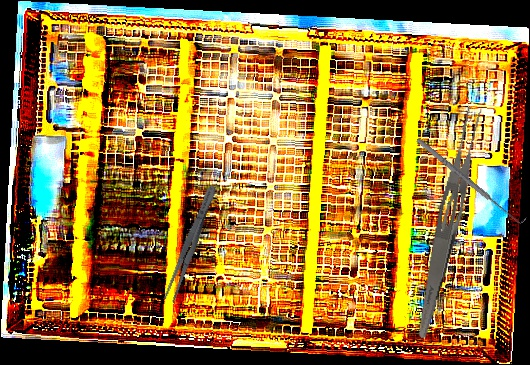Dressing Forceps: (412, 103, 487, 342), (161, 183, 221, 304)
Hook Surgical: (414, 133, 528, 228)
